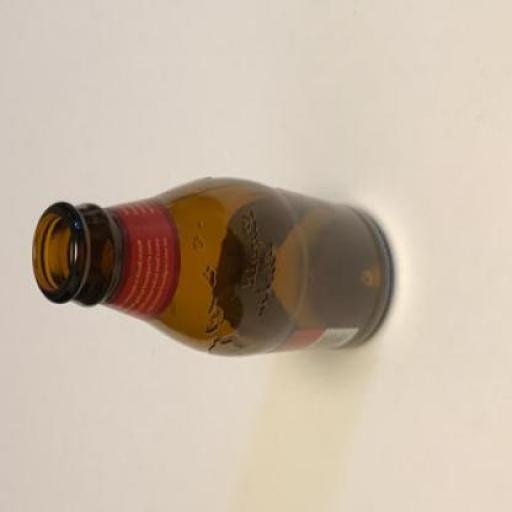glass: (31, 179, 391, 359)
